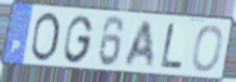6: (96, 14, 125, 69)
A: (122, 20, 156, 69)
G: (62, 13, 95, 65)
L: (159, 22, 185, 71)
O: (28, 11, 62, 64), (190, 23, 225, 73)
